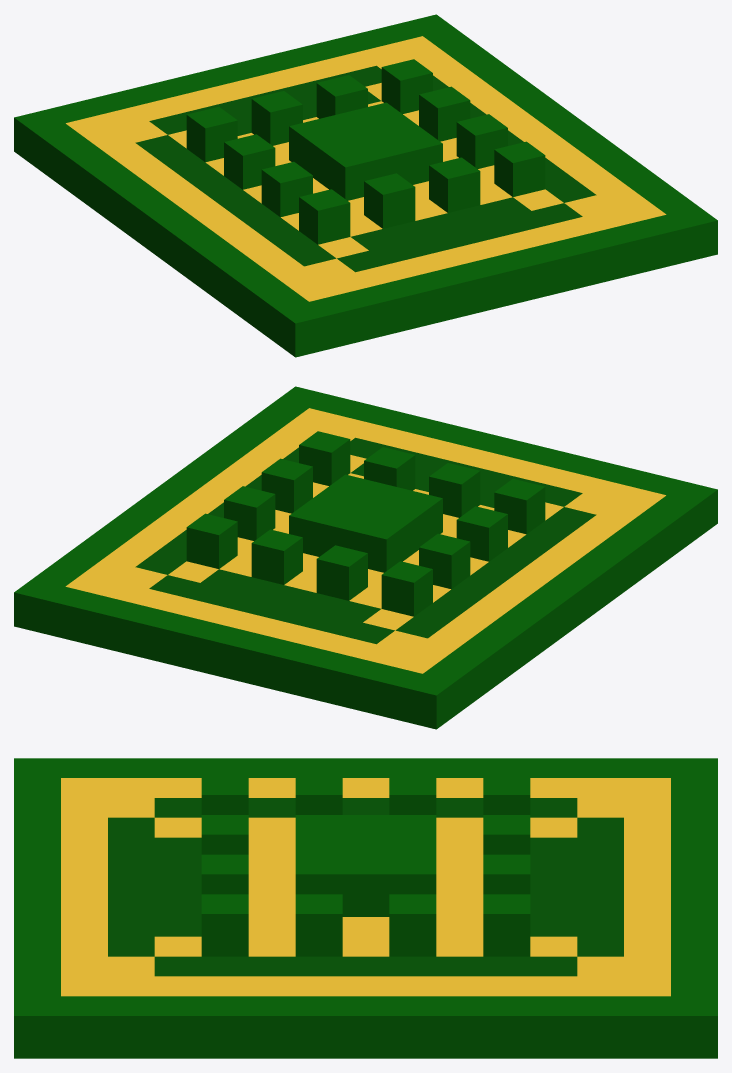
File: open-circuit-3.gltf
3 views of the same model, one above another, from view 1: azimuth 30°, elevation 25°; view 2: azimuth 150°, elevation 25°; view 3: azimuth 270°, elevation 25° (orthographic). The views are drawn at different scales.
Parts seen in each view (by area): view 1: Node; view 2: Node; view 3: Node.
Boxes of the visible parts, left/top/right/bottom form: Node: left=14, top=14, right=717, bottom=357; Node: left=14, top=386, right=717, bottom=729; Node: left=14, top=758, right=717, bottom=1058.
Size of the model in its own units: 1.3 by 0.2 by 1.5.
Materials: 1 (1 with a texture image).
